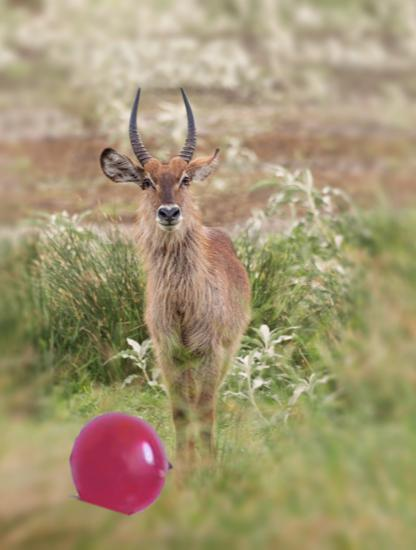Redcurrant: (69, 410, 175, 516)
